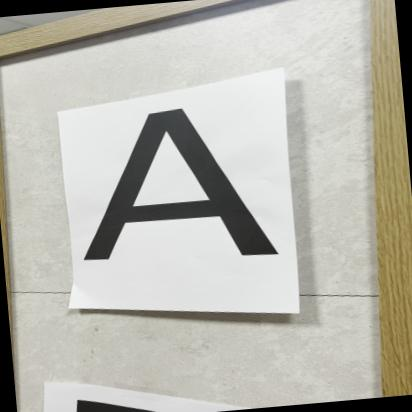seat: (58, 92, 292, 286)
